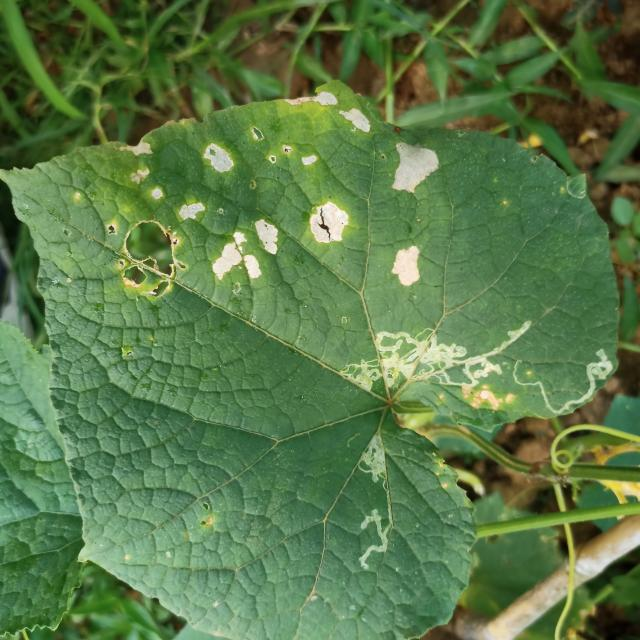disease_cucumber: (66, 86, 371, 315), (379, 130, 447, 292)
